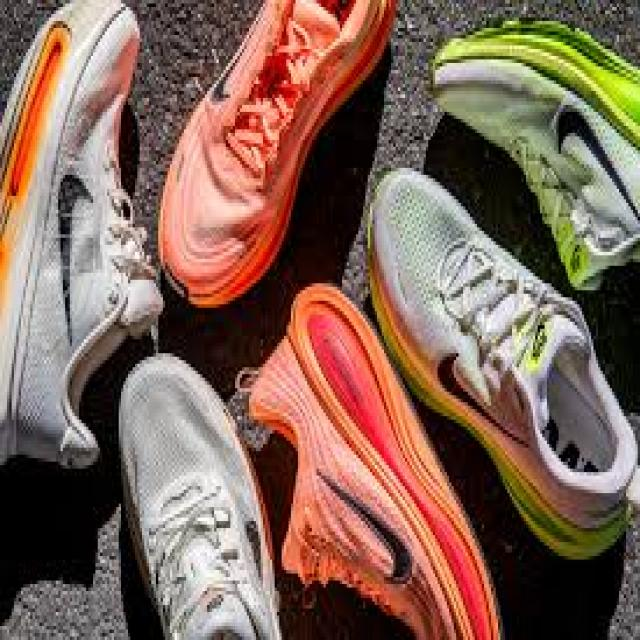nike logo: (304, 427, 425, 613), (422, 331, 540, 484), (542, 79, 638, 239), (39, 140, 106, 369), (200, 0, 285, 134)
